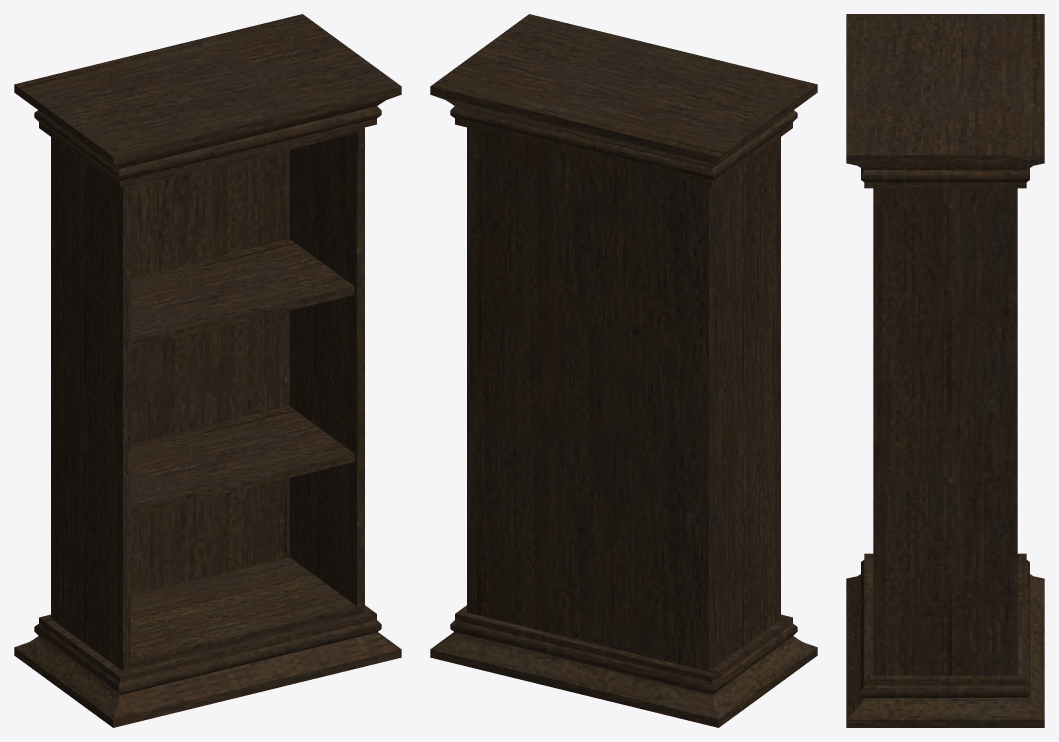
Rendered from shelf_mp_2_1.glb.
3 views of the same model, side by side, from view 1: azimuth 30°, elevation 25°; view 2: azimuth 150°, elevation 25°; view 3: azimuth 270°, elevation 25° (orthographic).
Parts seen in each view (by area): view 1: shelf_mp_2_1; view 2: shelf_mp_2_1; view 3: shelf_mp_2_1.
Part boxes in pixels (box(x1,y1,x2,y2)): shelf_mp_2_1: box(14, 14, 401, 727); shelf_mp_2_1: box(430, 14, 817, 727); shelf_mp_2_1: box(846, 14, 1044, 727).
Size of the model in its own units: 0.74 by 1.4 by 0.44.
1 material, 1 textured.
